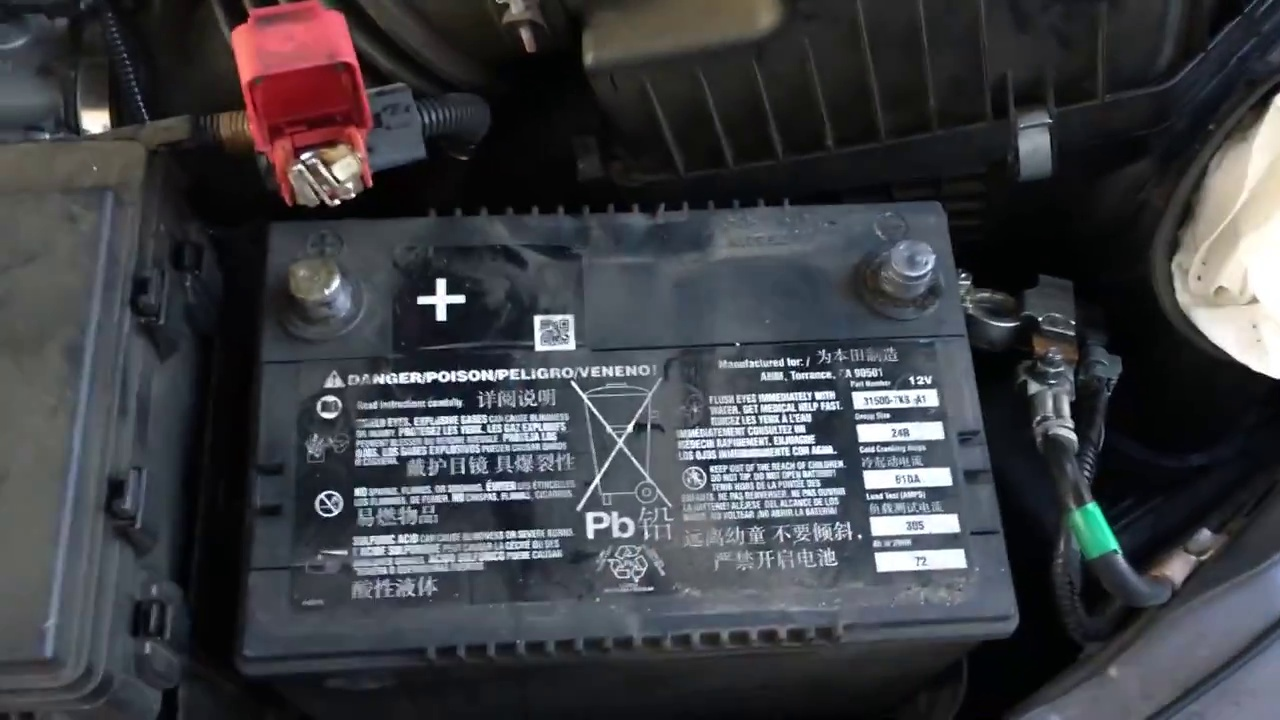battery: (259, 178, 1015, 636)
neg_disconnected: (851, 210, 1154, 423)
pos_disconnected: (237, 58, 402, 341)
